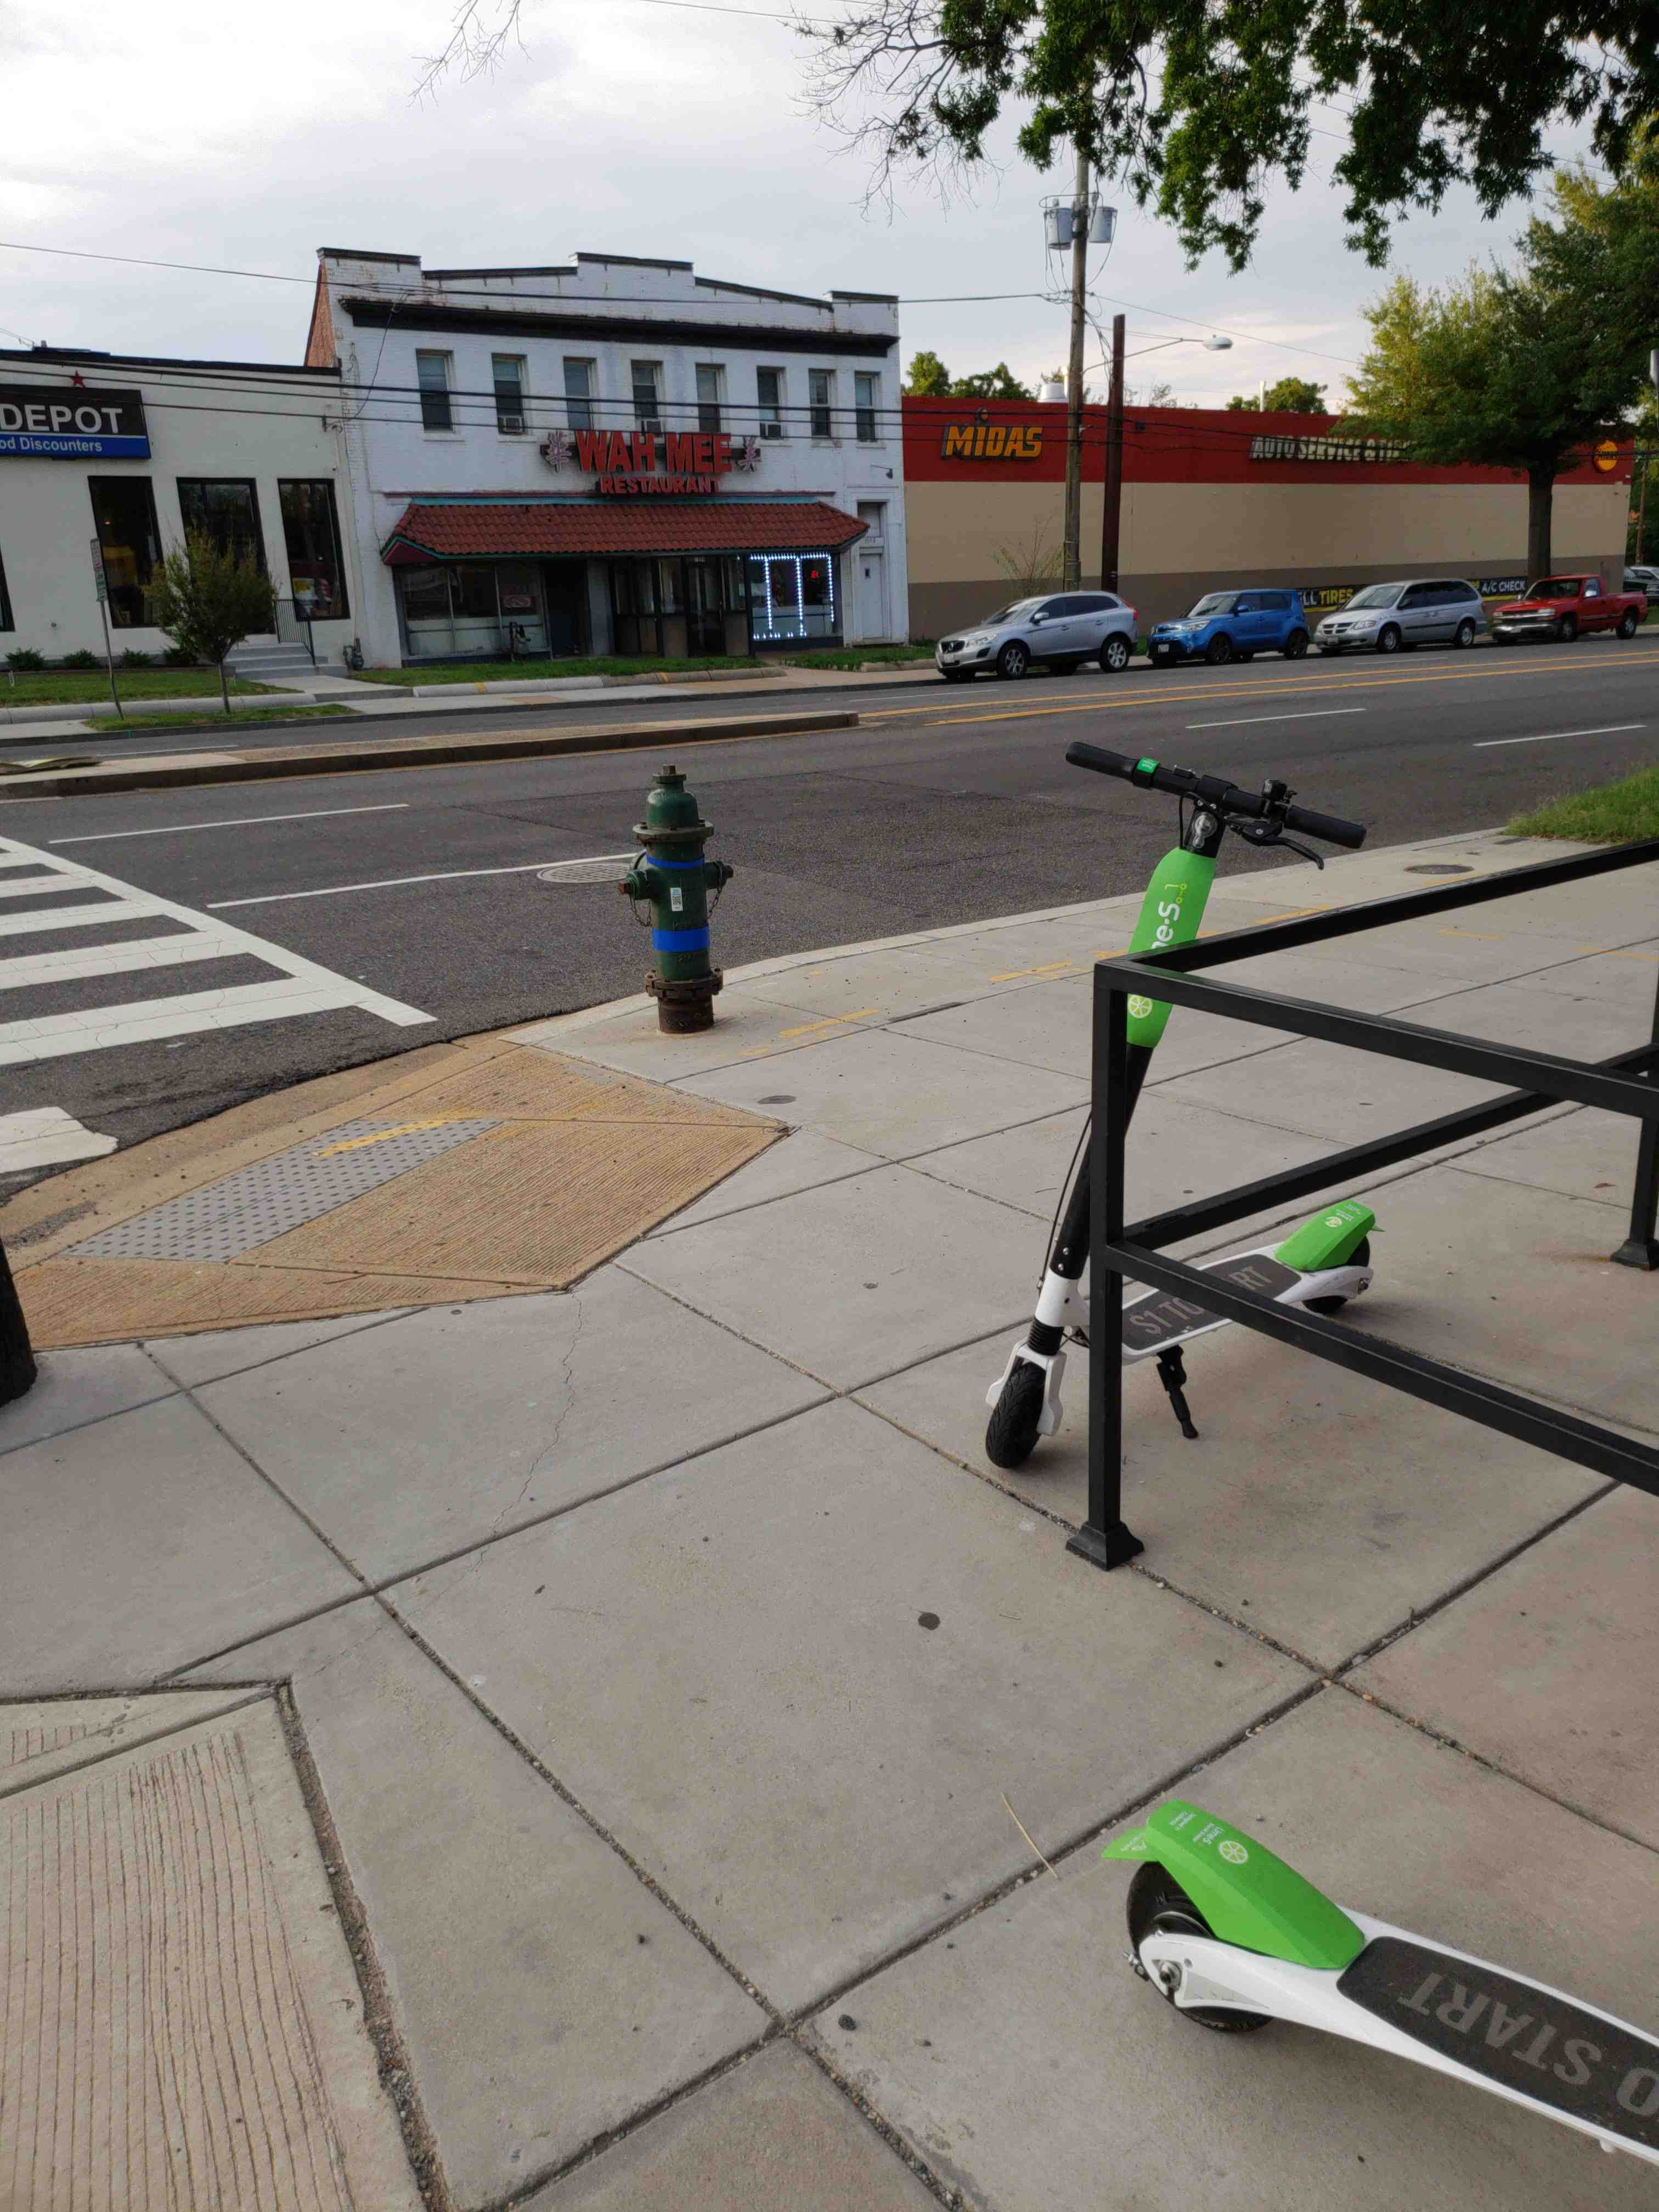scooter: (967, 726, 1398, 1543)
